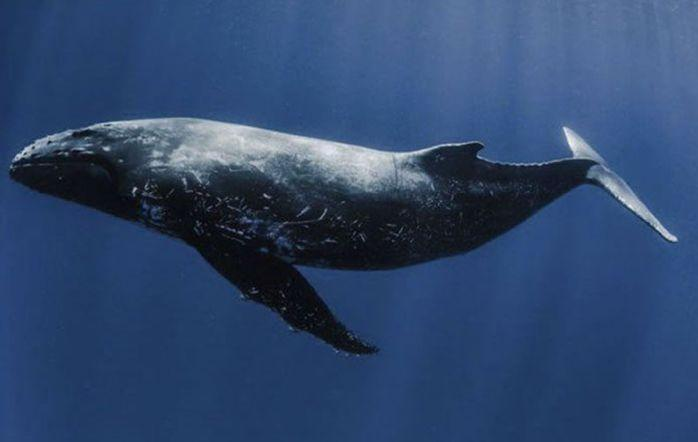fish: (7, 107, 681, 353)
